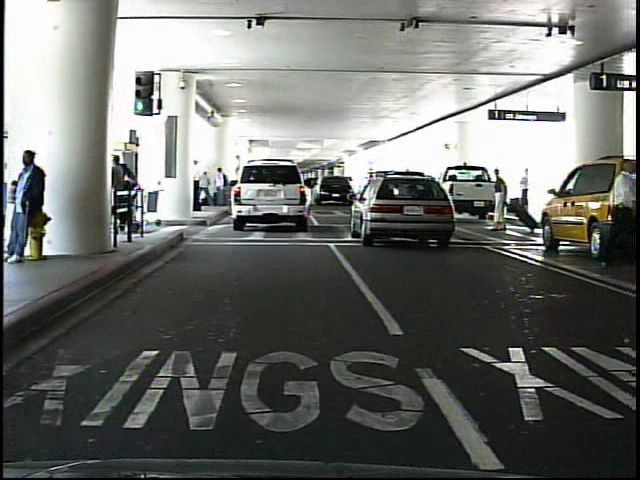person: (11, 148, 51, 265), (606, 156, 640, 263), (491, 167, 511, 233), (521, 166, 534, 216), (216, 167, 230, 209)
